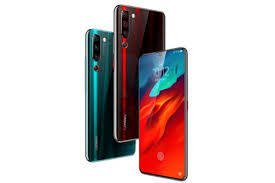lenovo: (138, 43, 190, 179)
